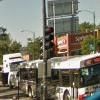Bus: (16, 55, 96, 100)
